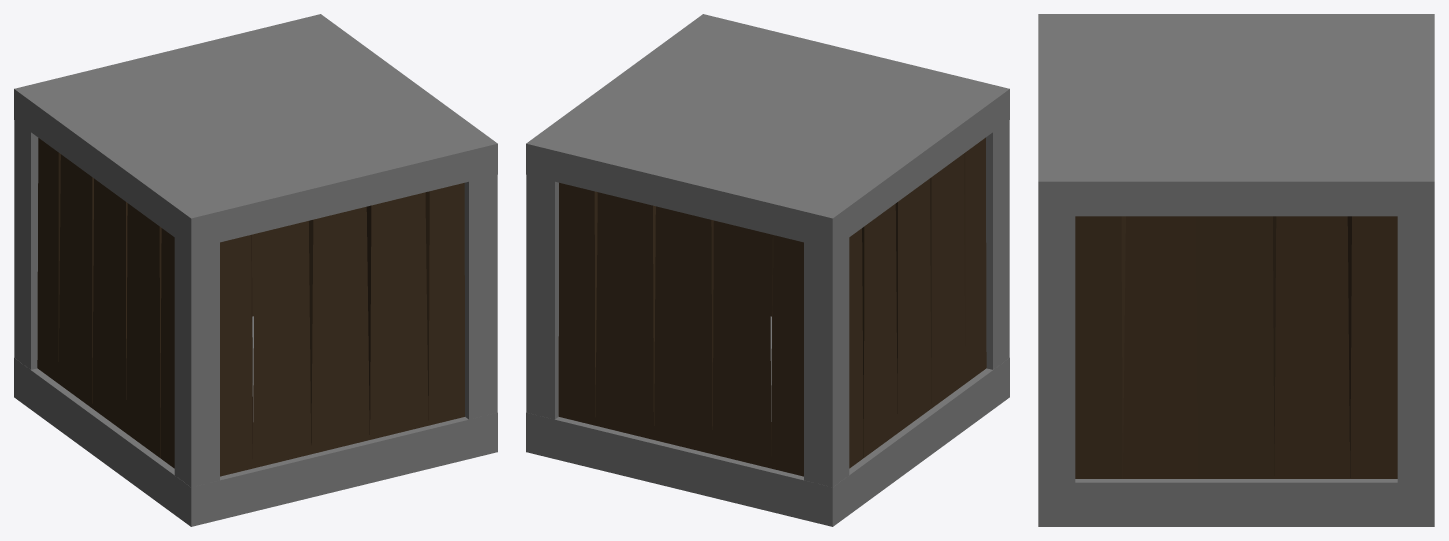
3 views of the same model, side by side, from view 1: azimuth 30°, elevation 25°; view 2: azimuth 150°, elevation 25°; view 3: azimuth 270°, elevation 25° (orthographic). The views are drawn at different scales.
Parts seen in each view (by area): view 1: Cube.003; view 2: Cube.003; view 3: Cube.003.
Boxes of the visible parts, x1=… form: Cube.003: x1=14, y1=14, x2=497, y2=526; Cube.003: x1=526, y1=14, x2=1009, y2=526; Cube.003: x1=1038, y1=14, x2=1434, y2=526.
Size of the model in its own units: 42.99 by 41.31 by 42.99.
